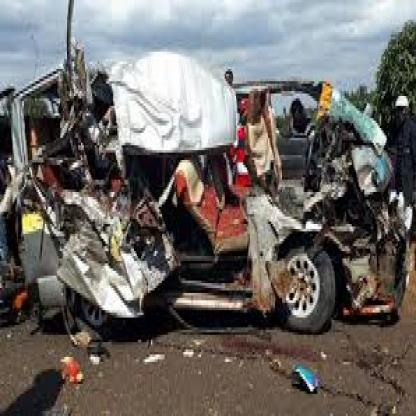accident: (2, 21, 409, 362)
